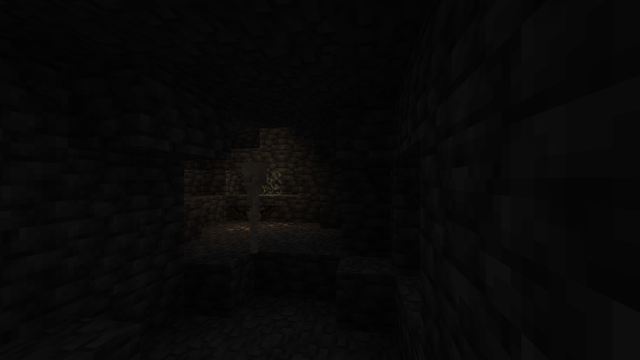squelettes: (234, 162, 270, 254)
